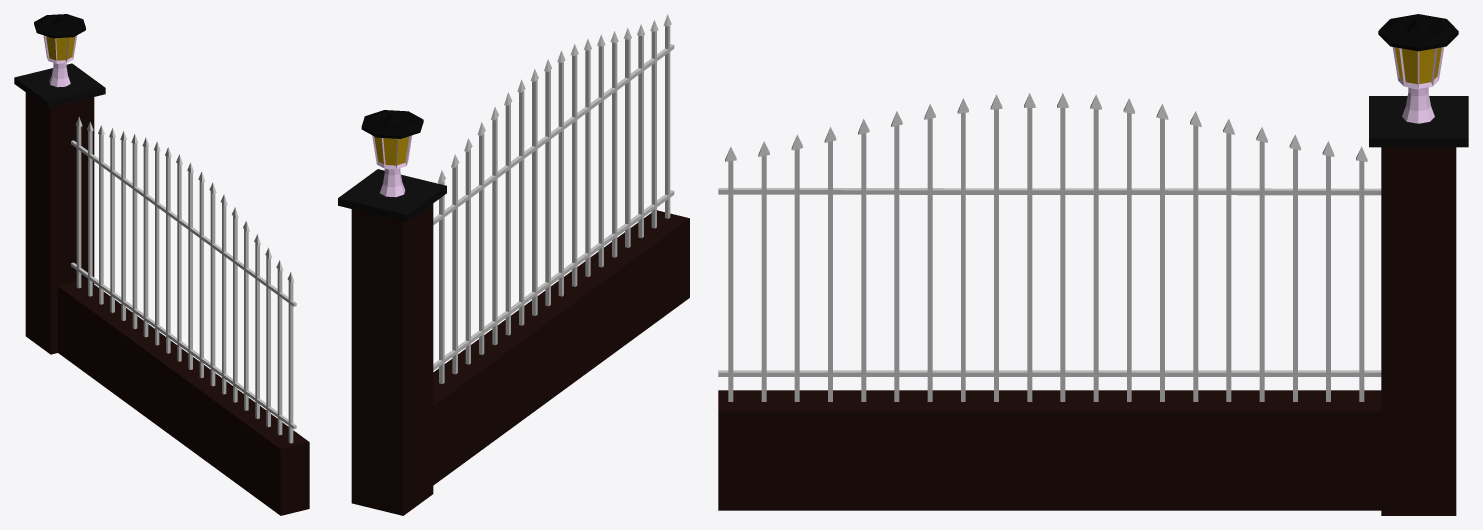
The model's file is FBX_Fence_B.FBX.
3 views of the same model, side by side, from view 1: azimuth 30°, elevation 25°; view 2: azimuth 150°, elevation 25°; view 3: azimuth 270°, elevation 25° (orthographic). The views are drawn at different scales.
Parts seen in each view (by area): view 1: Base, Column; view 2: Base, Column; view 3: Base, Column.
Part boxes in pixels (box(x1,y1,x2,y2)): Base: box(58, 117, 309, 515); Column: box(14, 14, 105, 354); Base: box(433, 14, 689, 485); Column: box(338, 110, 446, 515); Base: box(718, 93, 1381, 510); Column: box(1369, 14, 1468, 515).
Bounding box in the file's own units: 0.5998 × 3.2 × 4.52.
